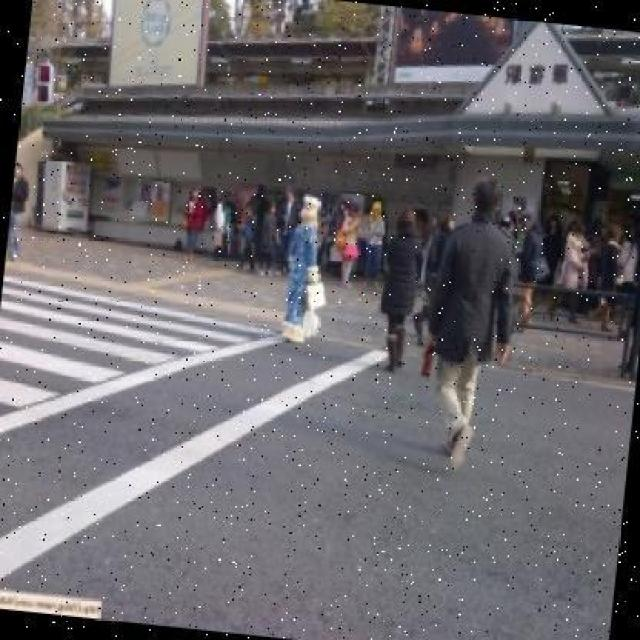Person: (416, 172, 526, 470), (371, 209, 424, 373), (546, 216, 600, 327), (508, 210, 549, 327), (606, 215, 639, 328), (6, 159, 34, 259), (178, 183, 205, 265)
